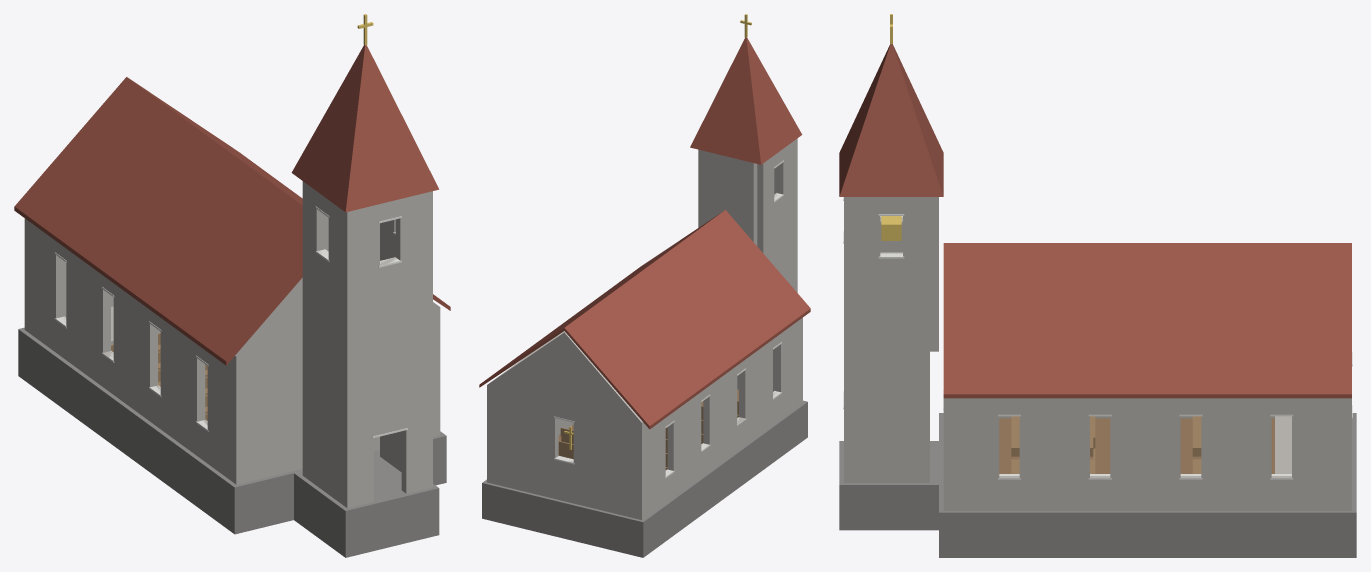
The model's file is bld_church.glb.
3 views of the same model, side by side, from view 1: azimuth 30°, elevation 25°; view 2: azimuth 150°, elevation 25°; view 3: azimuth 270°, elevation 25° (orthographic). The views are drawn at different scales.
Parts seen in each view (by area): view 1: Church; view 2: Church; view 3: Church.
Boxes of the visible parts, x1,y1,x2,y2 form: Church: (14, 14, 450, 557); Church: (479, 14, 810, 557); Church: (839, 14, 1356, 557).
Size of what is drawn, in the model's own units: 11 by 24 by 22.8.
